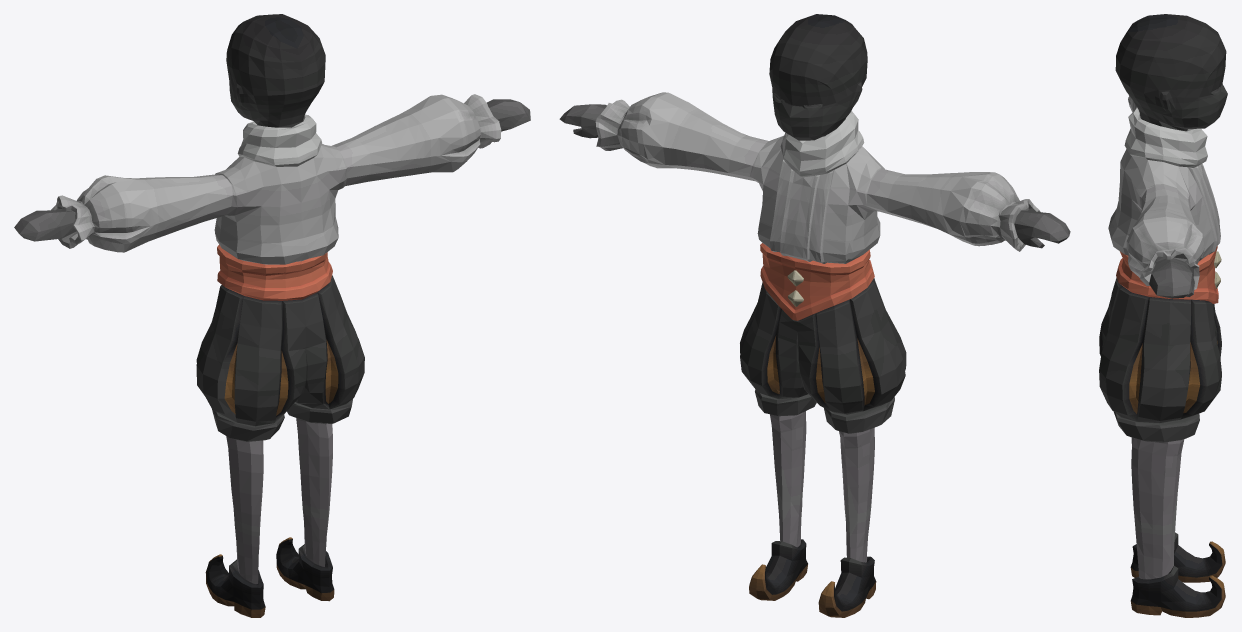
File: CharSkyKid_Body_AP30WaistCoat.glb
3 renders of one model, left to right at view 1: azimuth 30°, elevation 25°; view 2: azimuth 150°, elevation 25°; view 3: azimuth 270°, elevation 25°, orthographic.
Visible parts, largest first — view 1: CharSkyKid_Body_AP30WaistCoat; view 2: CharSkyKid_Body_AP30WaistCoat; view 3: CharSkyKid_Body_AP30WaistCoat.
Boxes of the visible parts, <box> form: CharSkyKid_Body_AP30WaistCoat: <box>14,14,530,617</box>; CharSkyKid_Body_AP30WaistCoat: <box>559,14,1070,617</box>; CharSkyKid_Body_AP30WaistCoat: <box>1099,14,1227,617</box>.
Size of the model in its own units: 13.83 by 14.93 by 3.03.
1 material, 1 textured.
